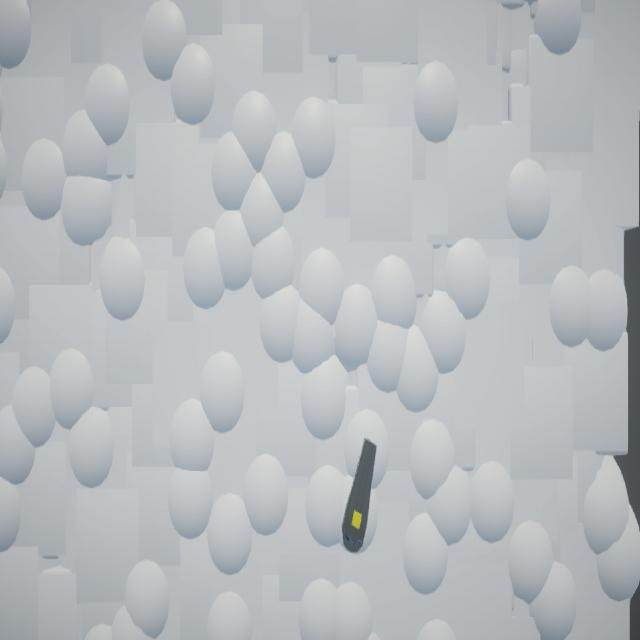handle_knife: (343, 438, 378, 554)
